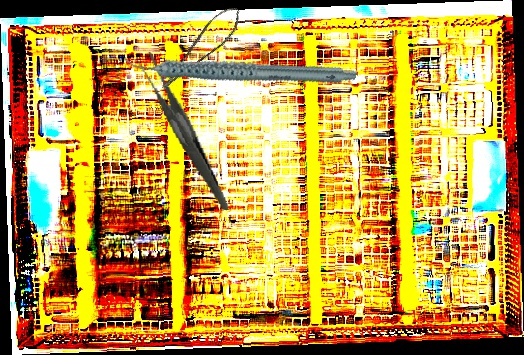Dressing Forceps: (135, 43, 230, 221)
Handpiece: (121, 5, 359, 130)
Micro Scissor: (148, 1, 250, 93)
